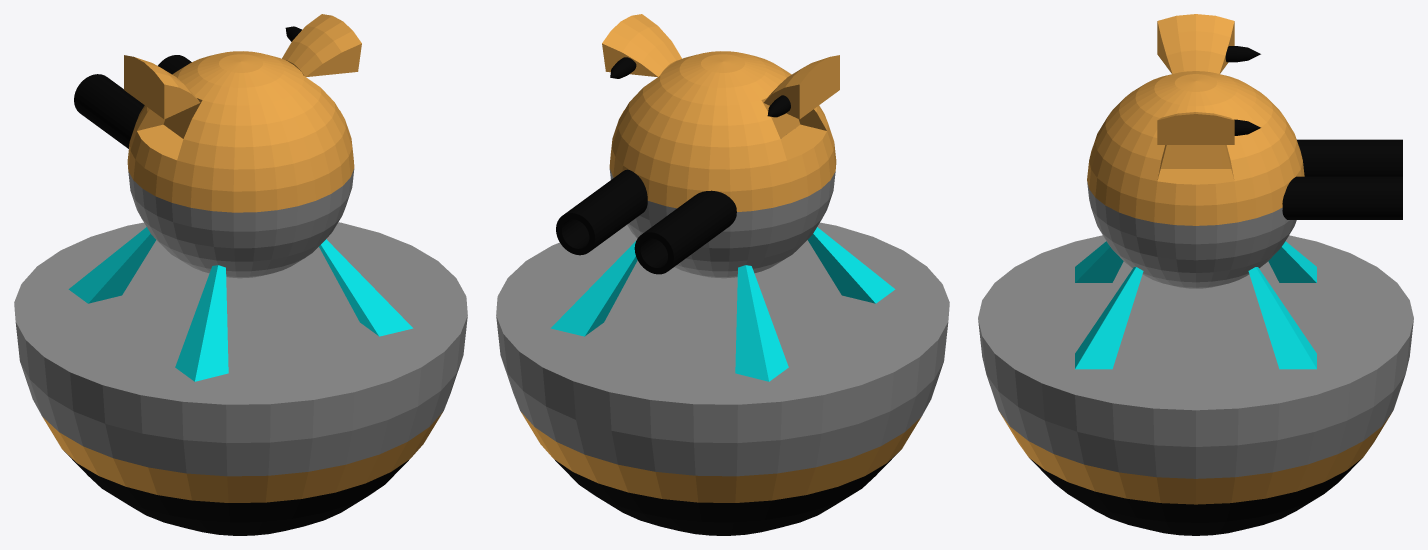
The model's file is TurretStage3.fbx.
The picture shows the model from 3 angles, left to right: view 1: azimuth 30°, elevation 25°; view 2: azimuth 150°, elevation 25°; view 3: azimuth 270°, elevation 25°; orthographic projection. The views are drawn at different scales.
Parts seen in each view (by area): view 1: Sphere; view 2: Sphere; view 3: Sphere.
Part boxes in pixels (box(x1,y1,x2,y2)): Sphere: box(14, 14, 467, 535); Sphere: box(496, 14, 949, 535); Sphere: box(978, 14, 1413, 535).
Size of the model in its own units: 200 by 231 by 200.
